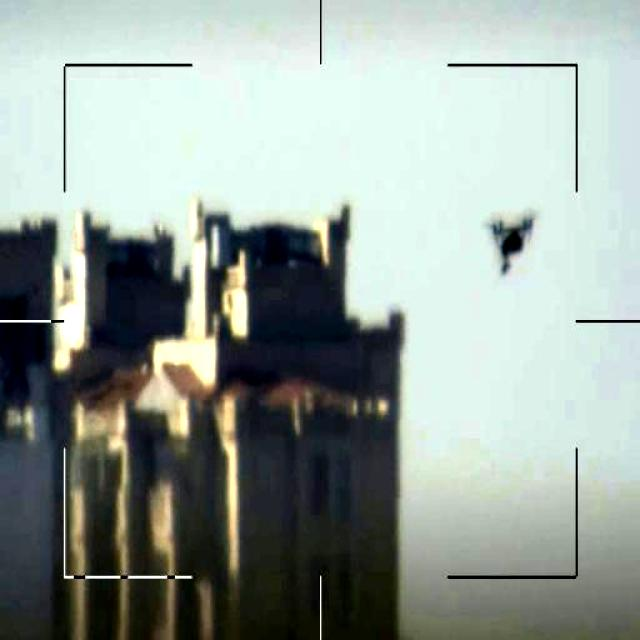bird: (482, 211, 542, 276)
